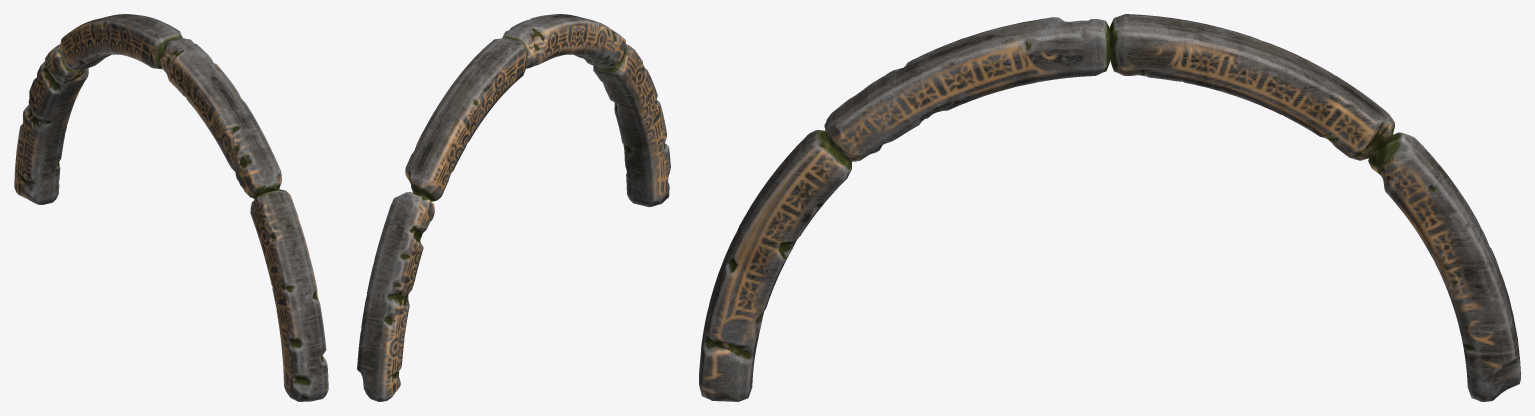
The model's file is SM_Arch_C.fbx.
3 renders of one model, left to right at view 1: azimuth 30°, elevation 25°; view 2: azimuth 150°, elevation 25°; view 3: azimuth 270°, elevation 25°, orthographic. The views are drawn at different scales.
Parts seen in each view (by area): view 1: SM_Arch_C_LOD0; view 2: SM_Arch_C_LOD0; view 3: SM_Arch_C_LOD0.
Boxes of the visible parts, <box> form: SM_Arch_C_LOD0: <box>14,14,328,401</box>; SM_Arch_C_LOD0: <box>357,14,670,401</box>; SM_Arch_C_LOD0: <box>699,14,1520,401</box>.
Size of the model in its own units: 75.8 by 1150 by 579.
